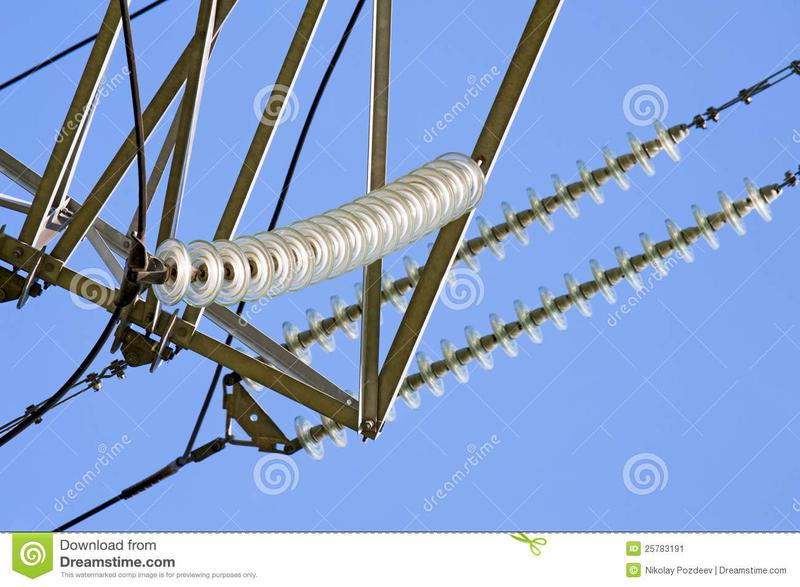isolator: (235, 119, 775, 464), (150, 150, 486, 307)
